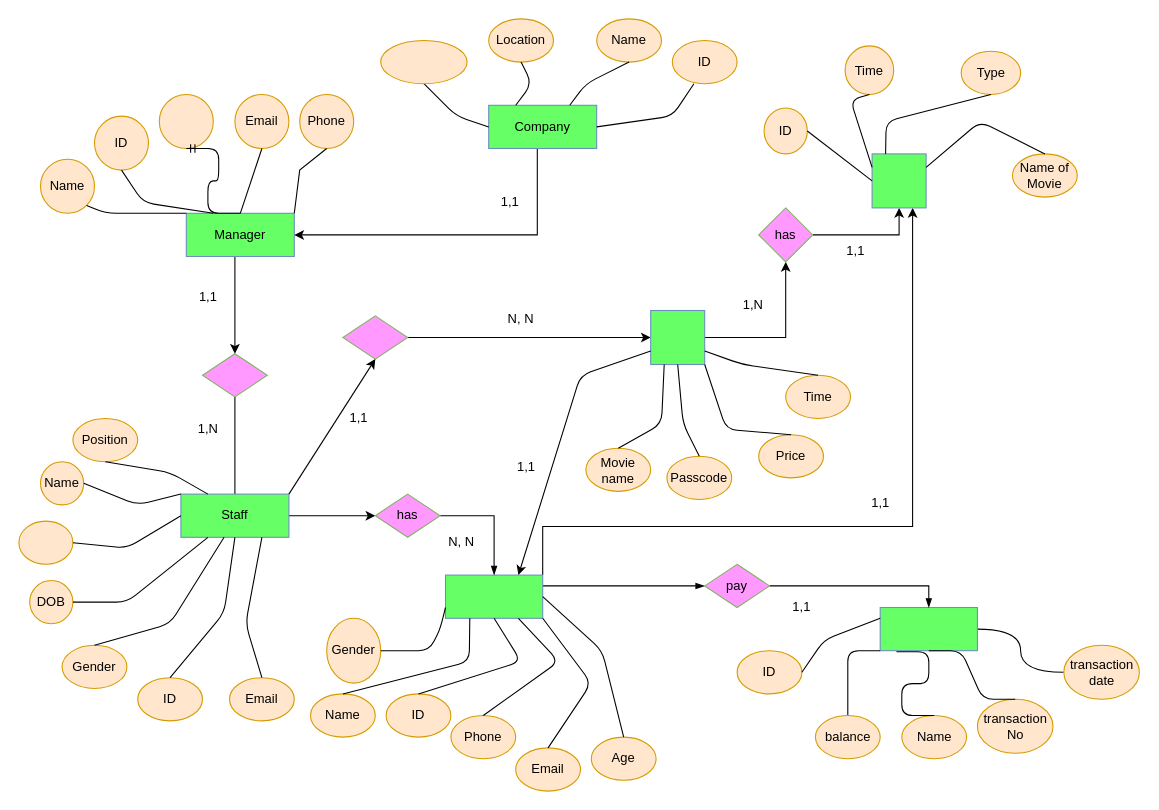
Some shapes in this 1159 by 810 pixel diagram are drawn without their labels. The shapes that lost their labels are listed below. From the top down, each one's box as (x1, y1, x2, y2) in pixels, then its label:
(380, 39, 467, 84): Contact Number
(158, 93, 213, 148): Sex
(871, 153, 926, 208): Movie
(342, 315, 408, 359): Sell
(650, 309, 705, 364): Ticket
(201, 353, 267, 397): Manage
(18, 520, 73, 564): Salary
(444, 574, 543, 618): Customer
(879, 606, 977, 651): Payment
